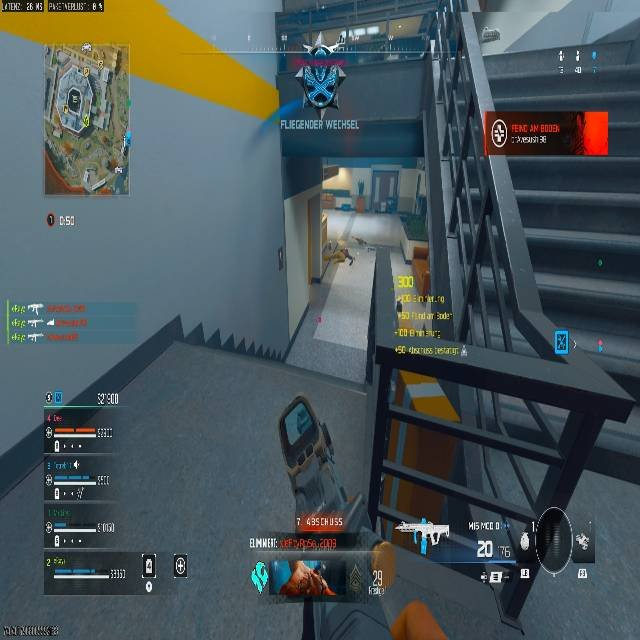player: (293, 44, 347, 113)
